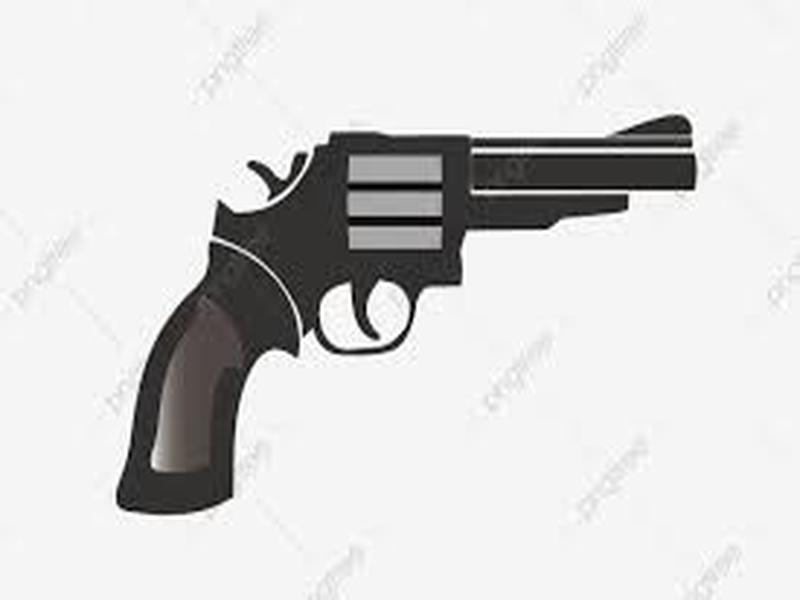gun: (114, 113, 743, 516)
